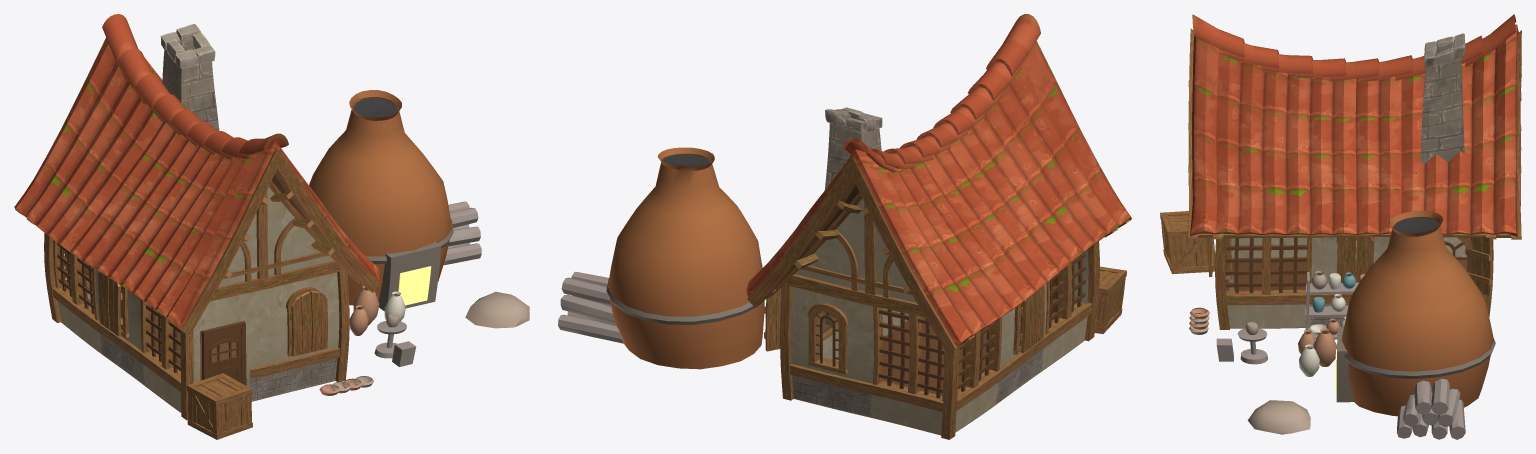
Rendered from S_pottery.gltf.
The picture shows the model from 3 angles, left to right: view 1: azimuth 30°, elevation 25°; view 2: azimuth 150°, elevation 25°; view 3: azimuth 270°, elevation 25°; orthographic projection. The views are drawn at different scales.
Parts seen in each view (by area): view 1: S_pottery; view 2: S_pottery; view 3: S_pottery.
Boxes of the visible parts, bbox=[...] form: S_pottery: bbox=[14, 14, 529, 439]; S_pottery: bbox=[558, 14, 1131, 439]; S_pottery: bbox=[1160, 14, 1521, 439].
Size of the model in its own units: 11.22 by 7.2 by 8.44.
37 materials, 28 textured.
